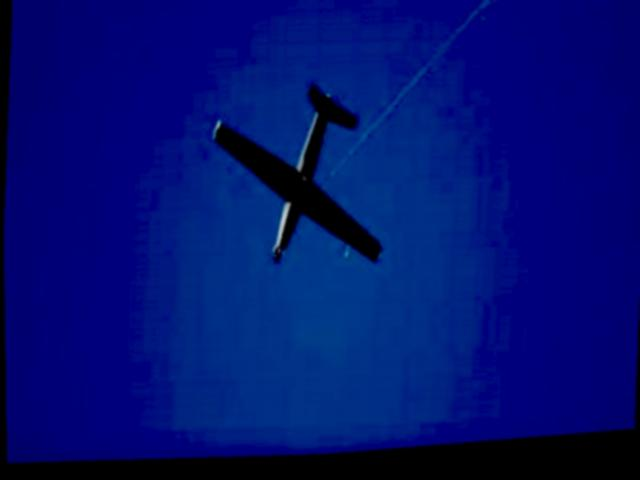uav: (203, 79, 388, 279)
